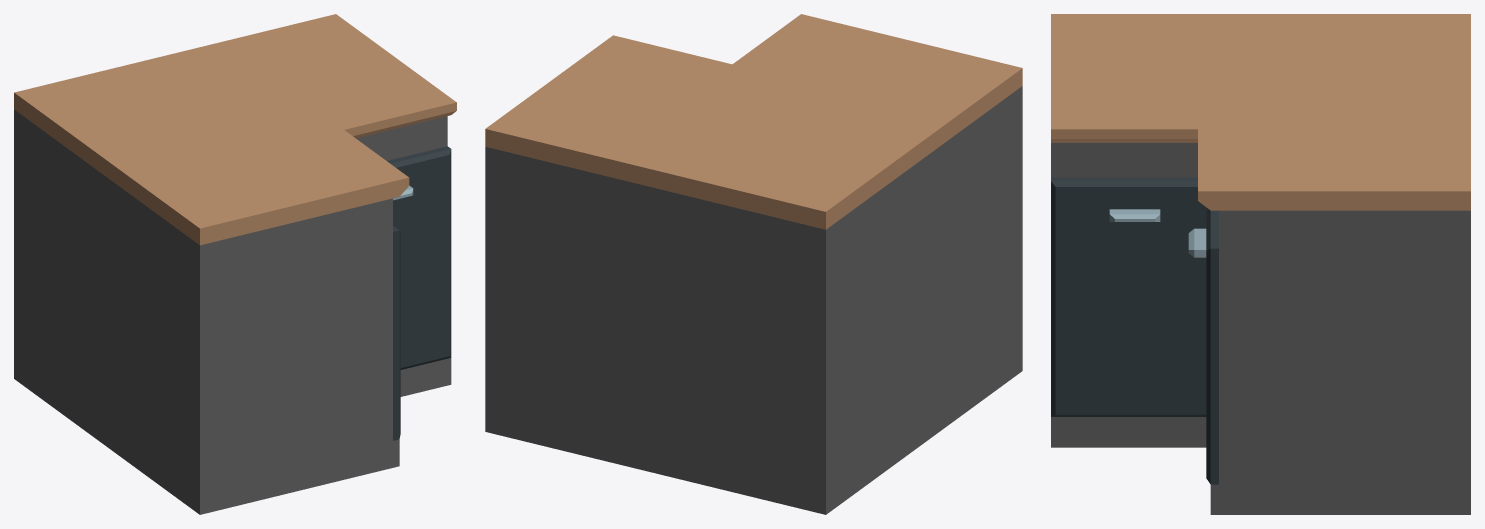
File: kitchen_corner_cabinet.glb
3 views of the same model, side by side, from view 1: azimuth 30°, elevation 25°; view 2: azimuth 150°, elevation 25°; view 3: azimuth 270°, elevation 25° (orthographic). The views are drawn at different scales.
Parts seen in each view (by area): view 1: Low Poly Kitchen Corner Cabinet, KCC-Corner_Top_V3_CornerCabinet1, KC-Corner_Door_R_V3_CornerCabinet1, KCC_OpeningCoverCorner_V1_Front600_CornerCabinet1, KC-Corner_Door_L_V3_CornerCabinet1; view 2: Low Poly Kitchen Corner Cabinet, KCC-Corner_Top_V3_CornerCabinet1; view 3: Low Poly Kitchen Corner Cabinet, KCC-Corner_Top_V3_CornerCabinet1, KC-Corner_Door_L_V3_CornerCabinet1, KCC_OpeningCoverCorner_V1_Front600_CornerCabinet1, KC-Corner_Door_R_V3_CornerCabinet1, KCC_Handle_V6_Medium_L_CornerCabinet1, KCC_Handle_V6_Medium_R_CornerCabinet1.
Boxes of the visible parts, left/top/right/bottom form: Low Poly Kitchen Corner Cabinet: left=14, top=109, right=451, bottom=514; KCC-Corner_Top_V3_CornerCabinet1: left=14, top=14, right=456, bottom=245; KC-Corner_Door_R_V3_CornerCabinet1: left=387, top=146, right=451, bottom=369; KCC_OpeningCoverCorner_V1_Front600_CornerCabinet1: left=359, top=121, right=440, bottom=160; KC-Corner_Door_L_V3_CornerCabinet1: left=393, top=226, right=400, bottom=440; Low Poly Kitchen Corner Cabinet: left=485, top=86, right=1022, bottom=514; KCC-Corner_Top_V3_CornerCabinet1: left=485, top=14, right=1022, bottom=229; Low Poly Kitchen Corner Cabinet: left=1051, top=143, right=1470, bottom=514; KCC-Corner_Top_V3_CornerCabinet1: left=1051, top=14, right=1470, bottom=210; KC-Corner_Door_L_V3_CornerCabinet1: left=1051, top=177, right=1206, bottom=416; KCC_OpeningCoverCorner_V1_Front600_CornerCabinet1: left=1059, top=147, right=1197, bottom=177; KC-Corner_Door_R_V3_CornerCabinet1: left=1206, top=207, right=1218, bottom=484; KCC_Handle_V6_Medium_L_CornerCabinet1: left=1109, top=209, right=1160, bottom=221; KCC_Handle_V6_Medium_R_CornerCabinet1: left=1188, top=228, right=1206, bottom=257.
Size of the model in its own units: 1 by 0.85 by 1.
5 materials, 5 textured.
